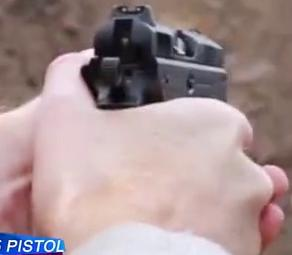gun: (1, 1, 292, 255)
